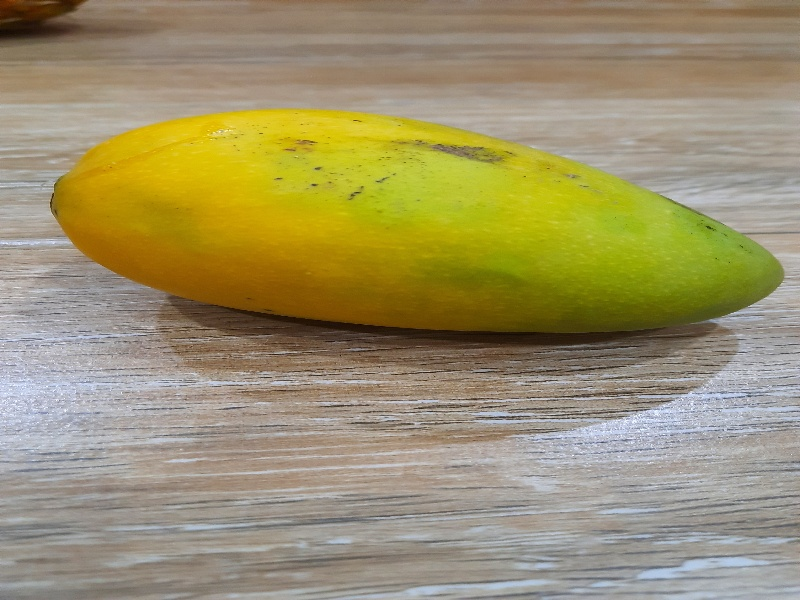fruit: (36, 103, 799, 367)
